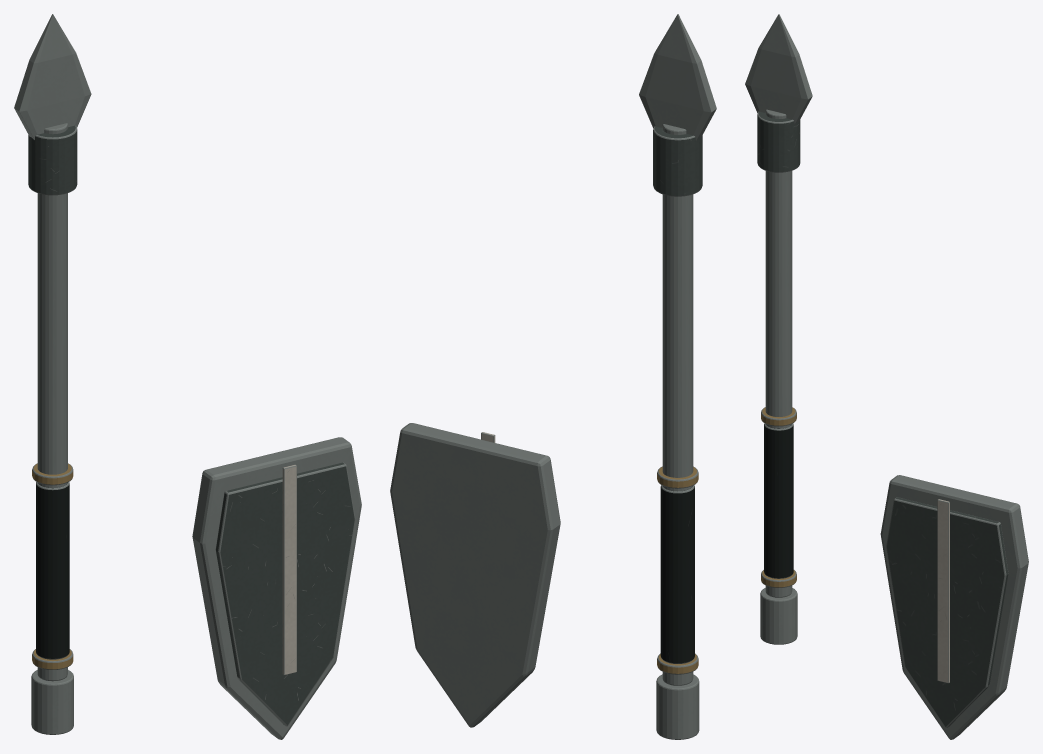
File: spear_shield-t2.glb
3 renders of one model, left to right at view 1: azimuth 30°, elevation 25°; view 2: azimuth 150°, elevation 25°; view 3: azimuth 330°, elevation 25°, orthographic. The views are drawn at different scales.
Visible parts, largest first — view 1: Shield inset, Shield forged rim, Steel shaft, Continuous two-hand wrap, Forged spear point, Shield centre stripe, Spear socket housing, Spear rear counterweight; view 2: Shield forged rim, Steel shaft, Continuous two-hand wrap, Forged spear point, Spear socket housing, Spear rear counterweight, Grip ferrule.001; view 3: Shield inset, Shield forged rim, Steel shaft, Continuous two-hand wrap, Forged spear point, Shield centre stripe, Spear socket housing, Spear rear counterweight.
Boxes of the visible parts, bbox=[...] form: Shield inset: bbox=[215, 462, 355, 726]; Shield forged rim: bbox=[192, 437, 361, 739]; Steel shaft: bbox=[37, 123, 67, 681]; Continuous two-hand wrap: bbox=[36, 482, 69, 659]; Forged spear point: bbox=[14, 14, 91, 139]; Shield centre stripe: bbox=[282, 464, 296, 675]; Spear socket housing: bbox=[28, 125, 77, 195]; Spear rear counterweight: bbox=[31, 670, 73, 734]; Shield forged rim: bbox=[390, 423, 560, 727]; Steel shaft: bbox=[662, 124, 693, 685]; Continuous two-hand wrap: bbox=[660, 485, 694, 663]; Forged spear point: bbox=[639, 14, 716, 140]; Spear socket housing: bbox=[653, 126, 702, 196]; Spear rear counterweight: bbox=[656, 674, 699, 739]; Grip ferrule.001: bbox=[657, 466, 698, 488]; Shield inset: bbox=[886, 497, 1008, 727]; Shield forged rim: bbox=[880, 475, 1028, 739]; Steel shaft: bbox=[765, 109, 792, 597]; Continuous two-hand wrap: bbox=[764, 423, 793, 578]; Forged spear point: bbox=[745, 14, 812, 124]; Shield centre stripe: bbox=[937, 499, 949, 683]; Spear socket housing: bbox=[757, 111, 800, 172]; Spear rear counterweight: bbox=[760, 588, 797, 644].
Bounding box in the file's own units: 1.55 × 3.44 × 0.305.
Materials: 5 (5 with a texture image).
